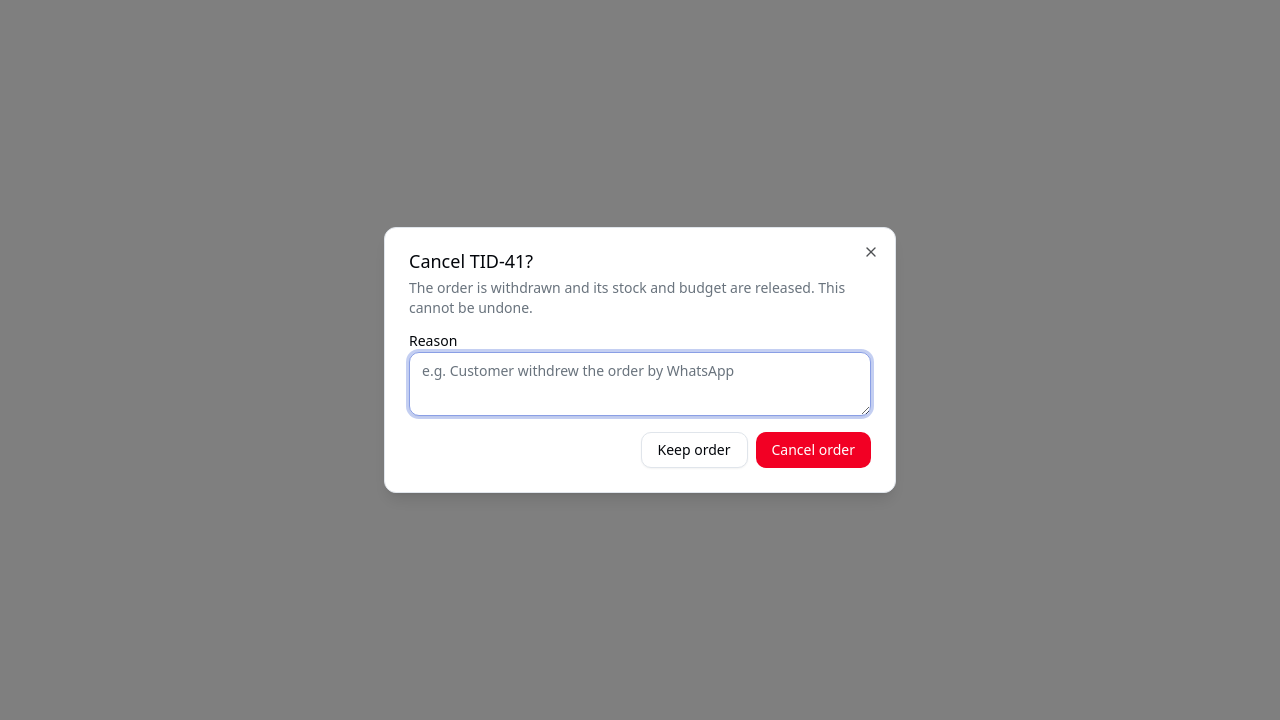
Test: cancelling a desk order › says the connection failed rather than showing a raw error
Type "x" into the text box labelled "Reason" at (640, 384), box [409,352,871,416]
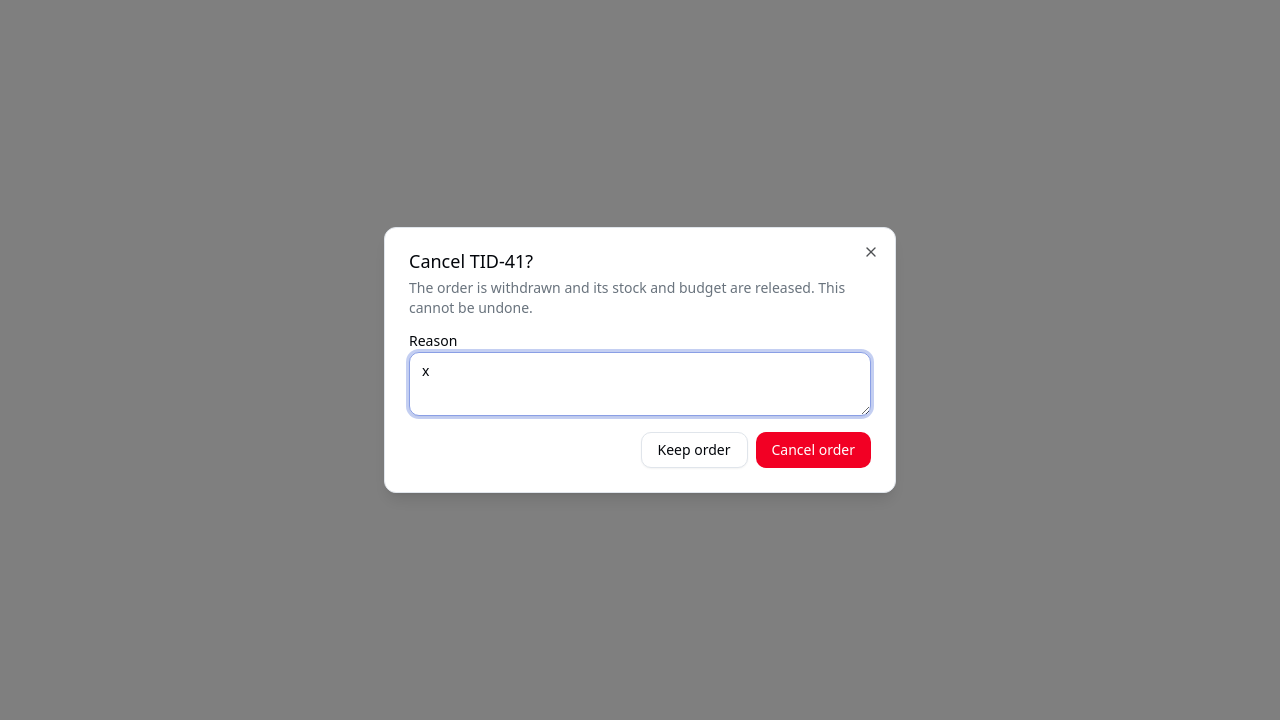
Click the button "Cancel order" at (813, 450), box [756,432,871,468]
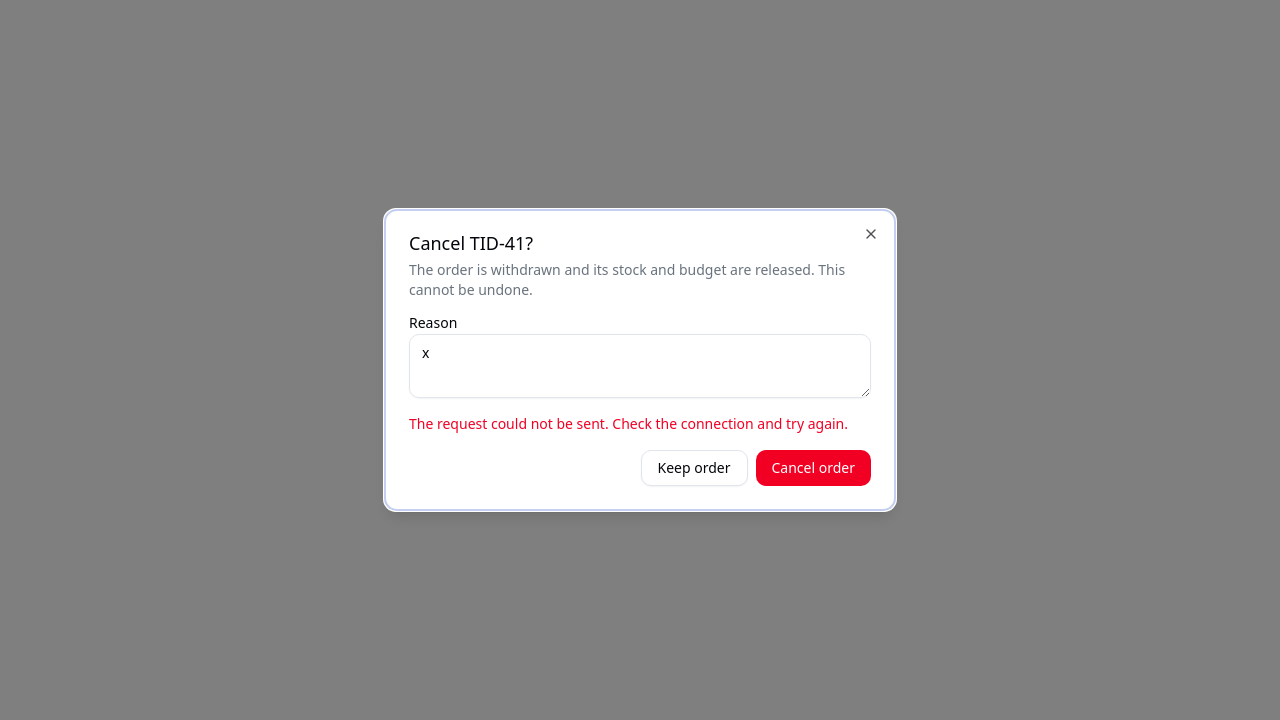
Now the text "The request could not be sent. Check the connection and try again." is shown, box [409,414,871,434]
